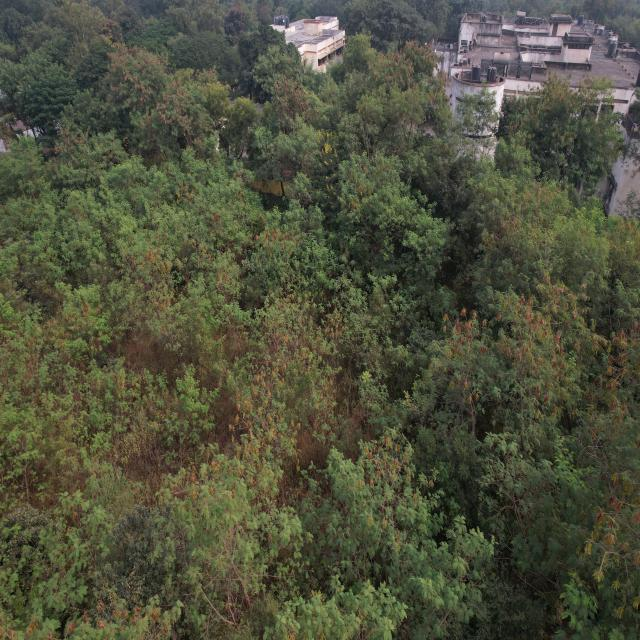Devakanchan tree: (117, 512, 168, 606)
Mango Tree: (242, 26, 276, 78)
Neem Tree: (328, 34, 376, 77)
